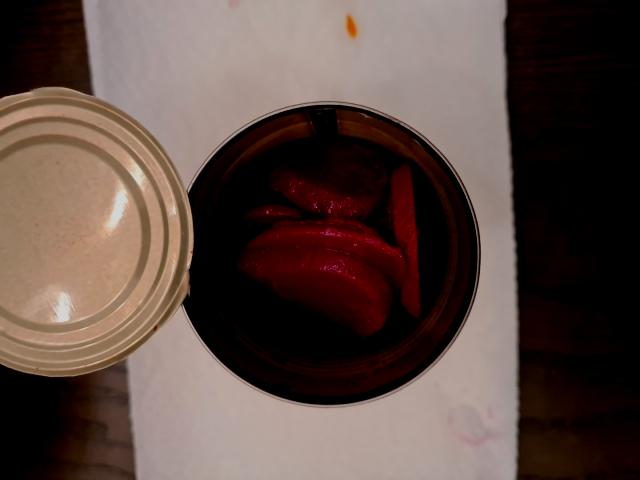kichen waste: (230, 142, 420, 344)
